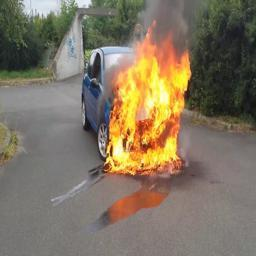fire: (109, 18, 192, 174)
